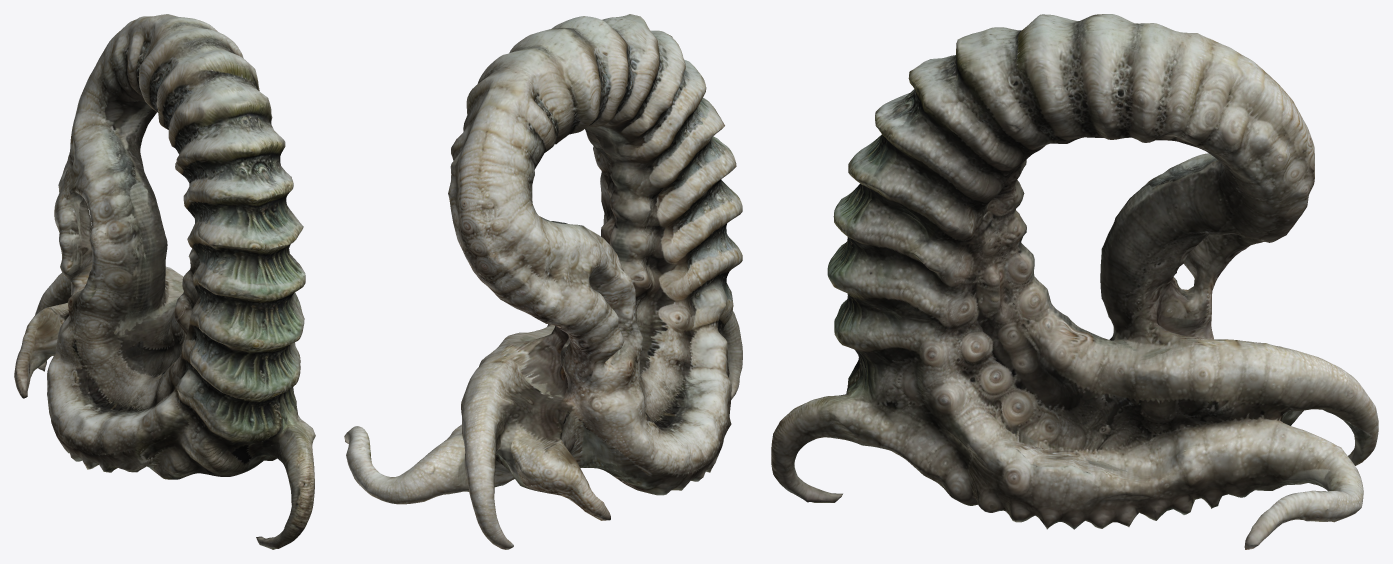
Rendered from tentacle_01.fbx.
3 views of the same model, side by side, from view 1: azimuth 30°, elevation 25°; view 2: azimuth 150°, elevation 25°; view 3: azimuth 270°, elevation 25° (orthographic). The views are drawn at different scales.
Parts seen in each view (by area): view 1: Mesh_0; view 2: Mesh_0; view 3: Mesh_0.
Part boxes in pixels (box(x1,y1,x2,y2)): Mesh_0: box(14, 14, 315, 549); Mesh_0: box(344, 14, 742, 549); Mesh_0: box(771, 14, 1378, 549).
Bounding box in the file's own units: 74.54 × 111 × 120.
Materials: 1 (1 with a texture image).
